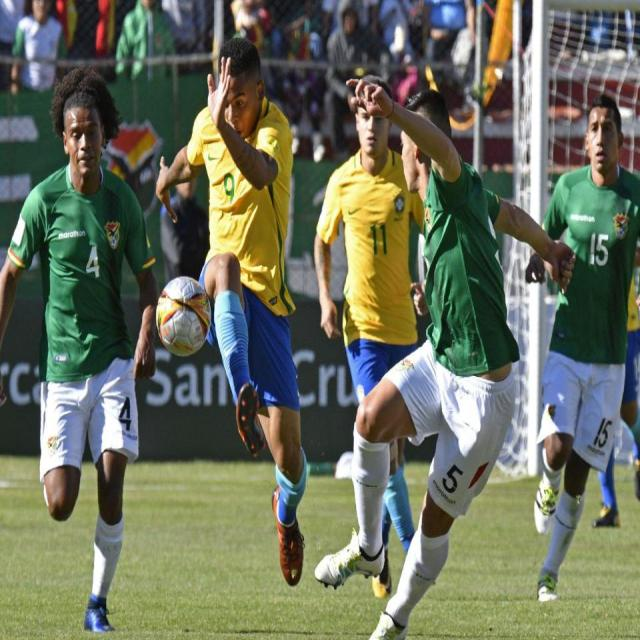body: (308, 76, 578, 639), (0, 62, 159, 637), (152, 34, 310, 591), (524, 91, 640, 605), (312, 74, 424, 599), (591, 266, 640, 530), (324, 0, 385, 166), (481, 0, 639, 57), (277, 0, 329, 166), (158, 172, 211, 288), (229, 0, 282, 108), (9, 0, 68, 95), (115, 0, 177, 77), (58, 0, 109, 88), (160, 0, 206, 76), (422, 0, 476, 62), (373, 0, 416, 64), (9, 0, 32, 99)
